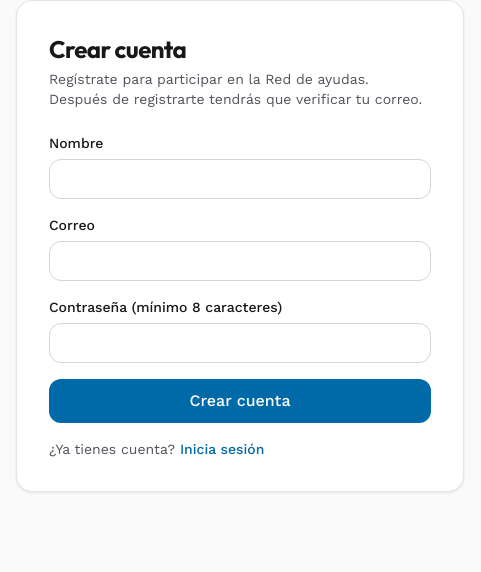
Scenario: RegisterPage › informa el error del servidor al registrarse
The image size is (481, 572).
Type "Gerente" into the field labelled "Nombre" at (240, 179), box [49, 159, 431, 199]
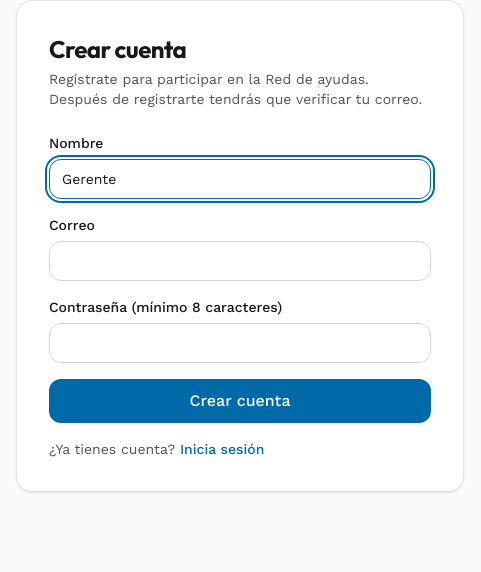
Type "gerente@org.org" into the field labelled "Correo" at (240, 261), box [49, 241, 431, 281]
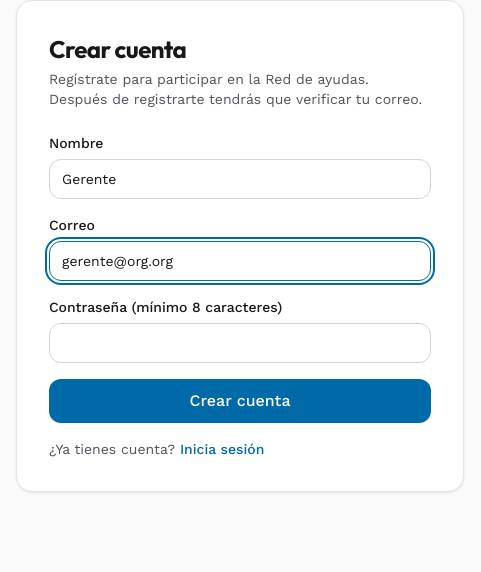
Type "contrasena-segura" into the password field labelled "Contraseña (mínimo 8 caracteres)" at (240, 343), box [49, 323, 431, 363]
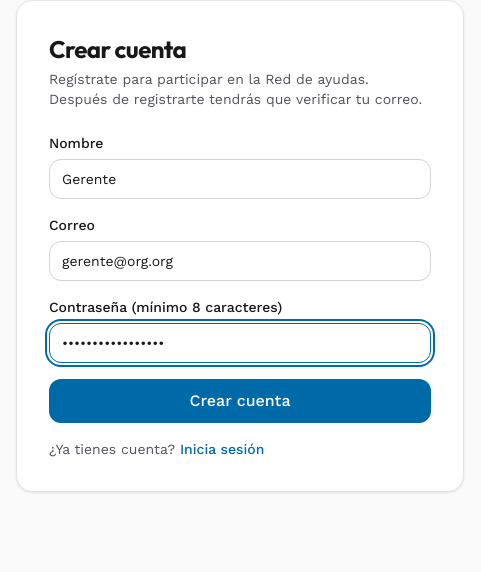
Click the button "Crear cuenta" at (240, 401), box [49, 379, 431, 423]
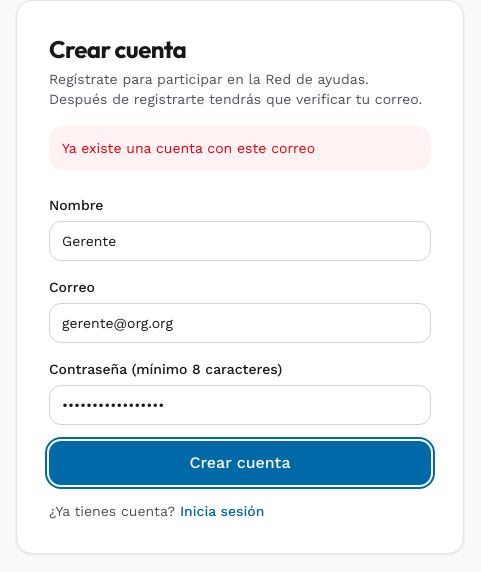
Now the message reads "Ya existe una cuenta con este correo", box [62, 140, 315, 156]
